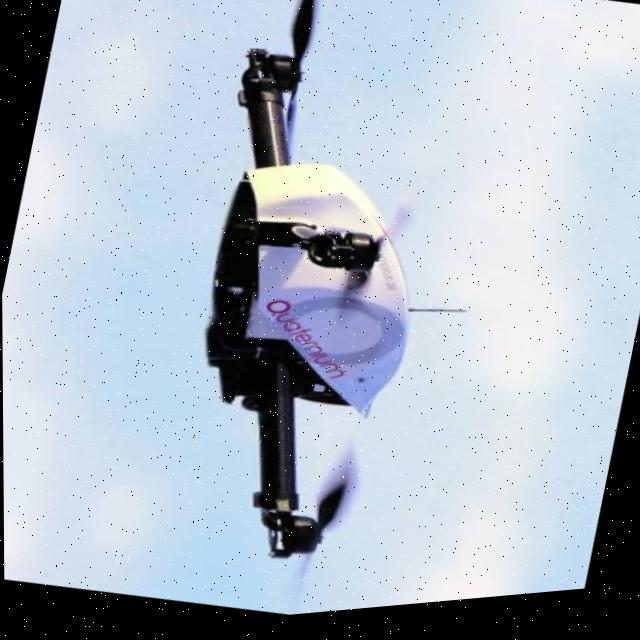drones: (102, 0, 553, 633)
